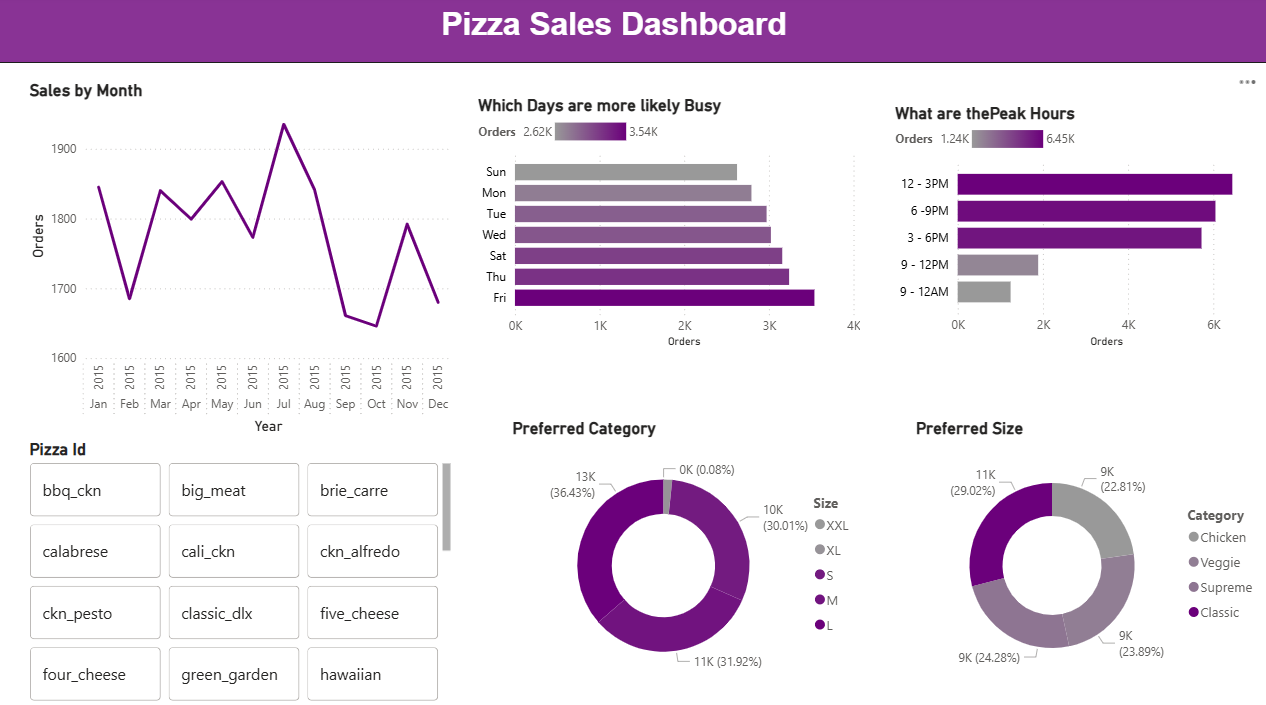

The page's visual inventory and layout, read from the dashboard file:
{"tool":"powerbi","page":{"name":"Page 1","canvas":[1280,720],"ordinal":0},"visuals":[{"type":"textbox","box":[0,0,1279.4,68],"z":0},{"type":"barChart","title":"What are thePeak Hours","fields":{"Category":["Orders.(Time Slot)"],"Y":["All Measures.Orders"]},"box":[898.9,109.5,381.1,250.5],"z":1000},{"type":"barChart","title":"Which Days are more likely Busy","fields":{"Y":["All Measures.Orders"],"Category":["Date Table.Day"]},"box":[477.9,101.1,395.8,258.9],"z":2000},{"type":"lineChart","title":"Sales by Month","fields":{"Category":["Date Table.Month","Date Table.Year"],"Y":["All Measures.Orders"]},"box":[26.5,86.9,434.6,360.9],"z":3000},{"type":"donutChart","title":"Preferred Size","fields":{"Category":["Pizza Types.Category"],"Y":["All Measures.Orders"]},"box":[920,427.4,360,277.9],"z":4000},{"type":"donutChart","title":"Preferred Category","fields":{"Y":["All Measures.Orders"],"Category":["pizzas.Size"]},"box":[513.7,427.4,360,277.9],"z":5000},{"type":"advancedSlicerVisual","title":"Pizza Id","fields":{"Values":["Pizza Types.Pizza Type Id"]},"box":[25.3,448.4,435.8,271.6],"z":6000}]}

Visuals, with their boxes in screenshot pixels (x1, y1, x2, y2), scaled from the page's 1280x720 canvas onto the 1266x705 screenshot:
textbox: {"left": 0, "top": 0, "right": 1265, "bottom": 67}
"What are thePeak Hours" barChart: {"left": 889, "top": 107, "right": 1265, "bottom": 352}
"Which Days are more likely Busy" barChart: {"left": 473, "top": 99, "right": 864, "bottom": 352}
"Sales by Month" lineChart: {"left": 26, "top": 85, "right": 456, "bottom": 438}
"Preferred Size" donutChart: {"left": 910, "top": 418, "right": 1265, "bottom": 691}
"Preferred Category" donutChart: {"left": 508, "top": 418, "right": 864, "bottom": 691}
"Pizza Id" advancedSlicerVisual: {"left": 25, "top": 439, "right": 456, "bottom": 704}
